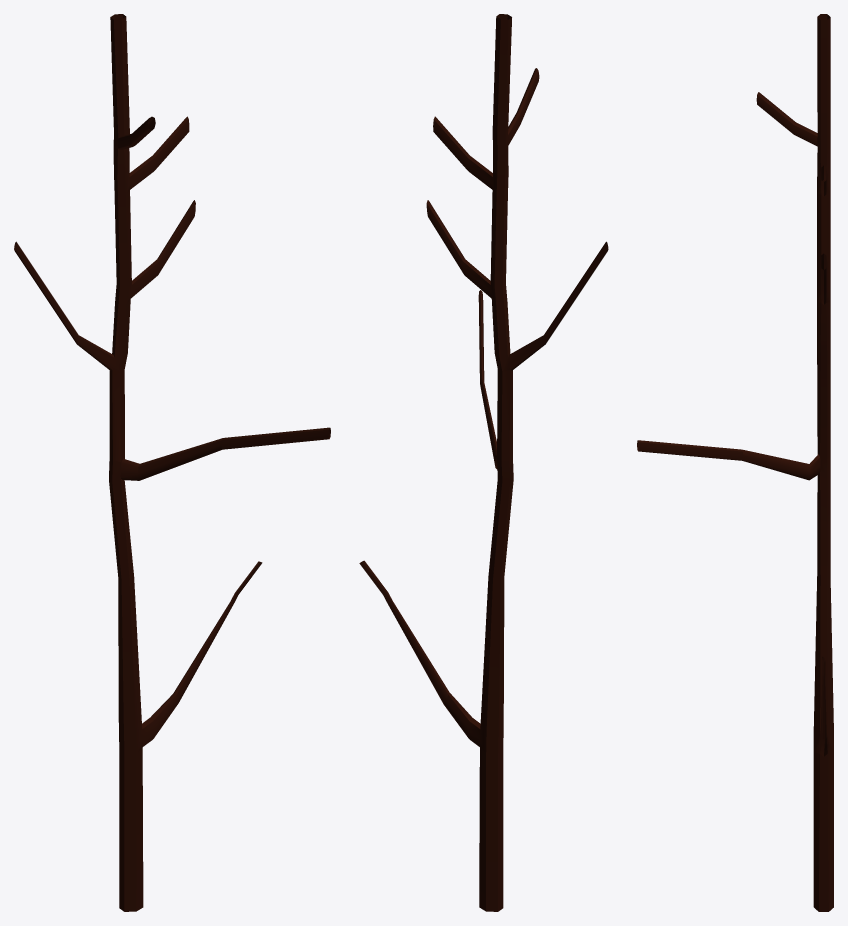
Rendered from Tronco.fbx.
3 views of the same model, side by side, from view 1: azimuth 30°, elevation 25°; view 2: azimuth 150°, elevation 25°; view 3: azimuth 270°, elevation 25° (orthographic).
Parts seen in each view (by area): view 1: Mesh; view 2: Mesh; view 3: Mesh.
Boxes of the visible parts, x1,y1,x2,y2 form: Mesh: (14, 14, 330, 911); Mesh: (359, 14, 608, 911); Mesh: (637, 14, 833, 911).
Bounding box in the file's own units: 47.76 × 165 × 33.2.
